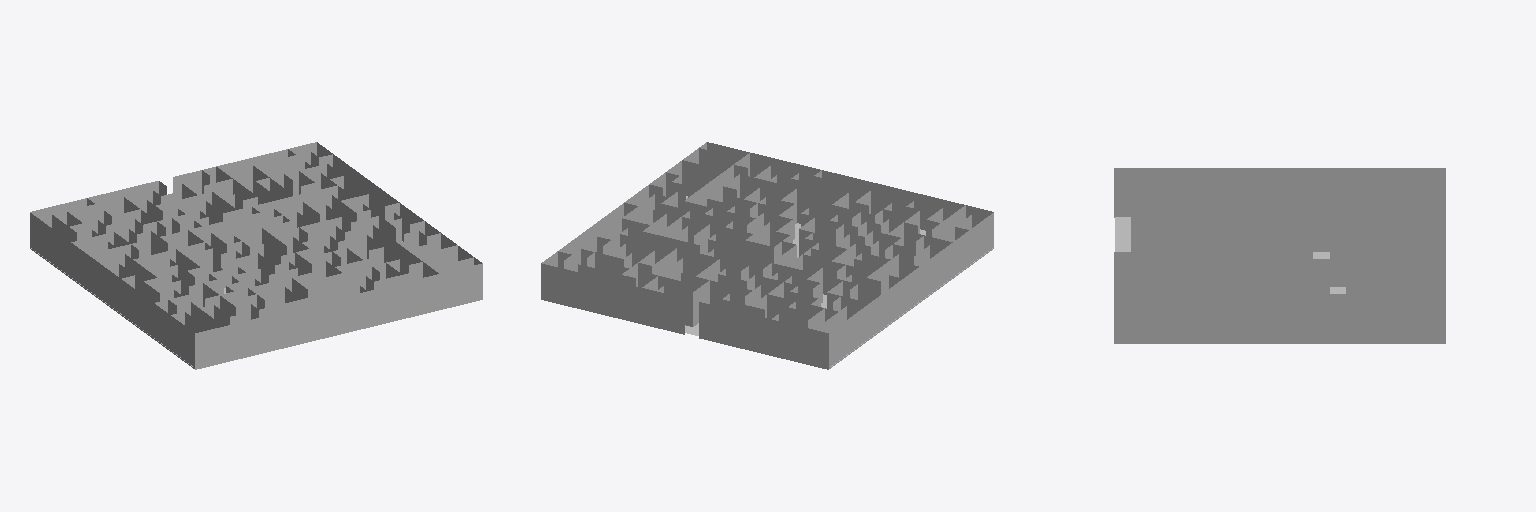
File: maze.obj
The picture shows the model from 3 angles: view 1: azimuth 30°, elevation 25°; view 2: azimuth 150°, elevation 25°; view 3: azimuth 270°, elevation 25°; orthographic projection.
Visible parts, largest first — view 1: Curve.033_Curve.223; view 2: Curve.033_Curve.223; view 3: Curve.033_Curve.223, Plane_Plane.002.
Part boxes in pixels (bbox=[...]): Curve.033_Curve.223: bbox=[30, 142, 482, 369]; Curve.033_Curve.223: bbox=[541, 142, 993, 369]; Curve.033_Curve.223: bbox=[1114, 168, 1445, 343]; Plane_Plane.002: bbox=[1115, 217, 1345, 293].
Bounding box in the file's own units: 18.08 × 2.2 × 18.06.